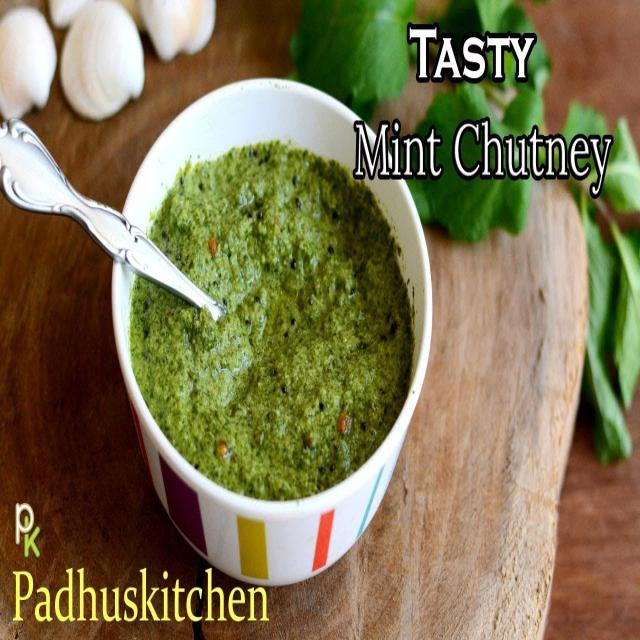puthina chutney: (122, 121, 416, 513)
